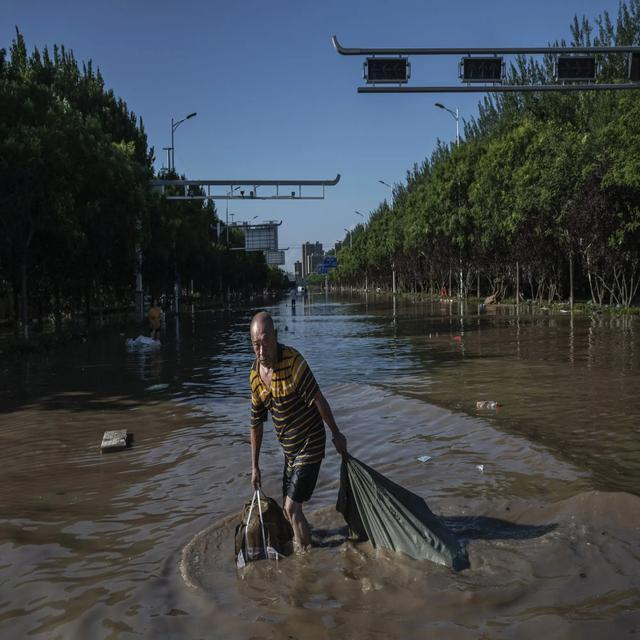Person-RiskLevel2: (223, 302, 385, 571)
